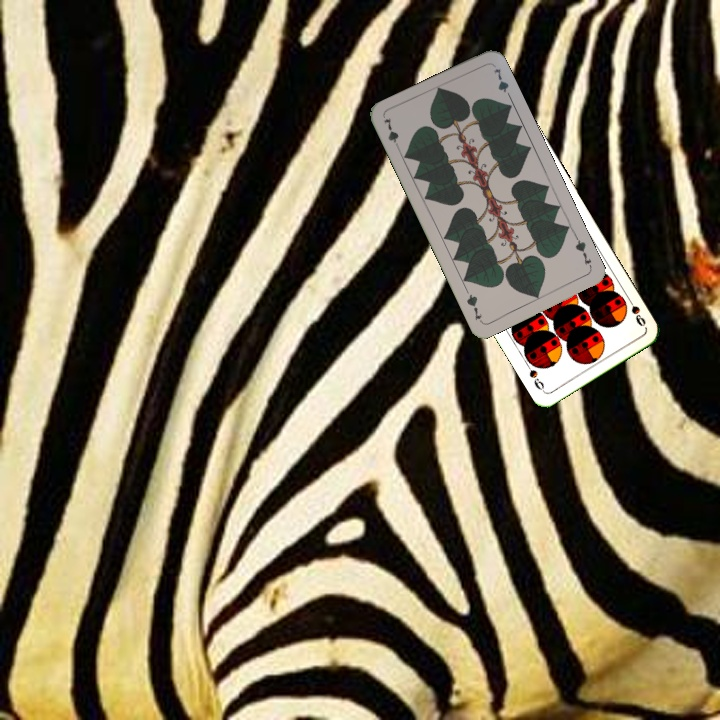G7: (571, 233, 595, 271), (380, 114, 403, 153)
S9: (622, 292, 648, 329)
